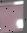dent: (0, 1, 27, 32)
